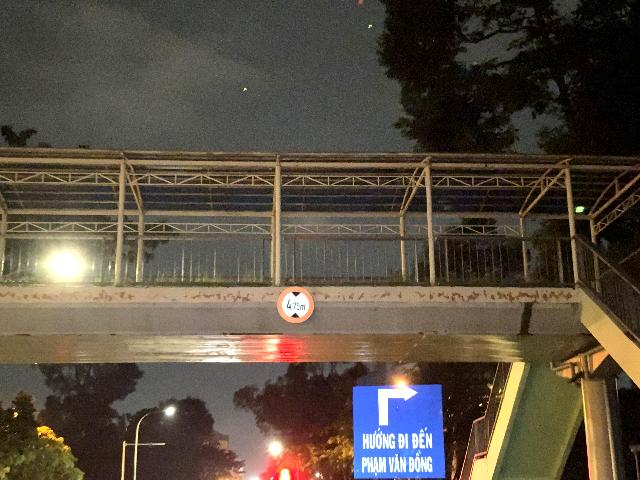han-che-chieu-cao: (277, 285, 315, 323)
